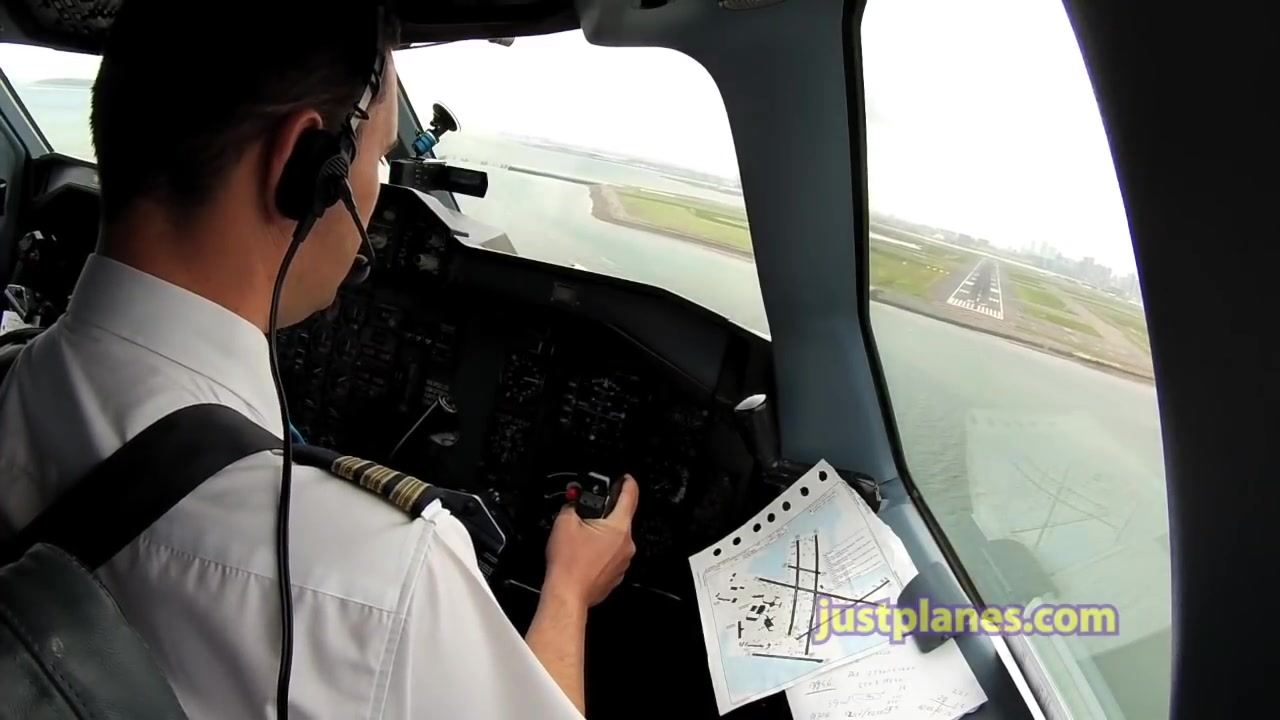entrance: (949, 296, 1001, 319)
runway: (947, 258, 1006, 322)
